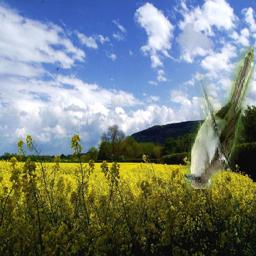Cuckoo: (184, 47, 254, 190)
